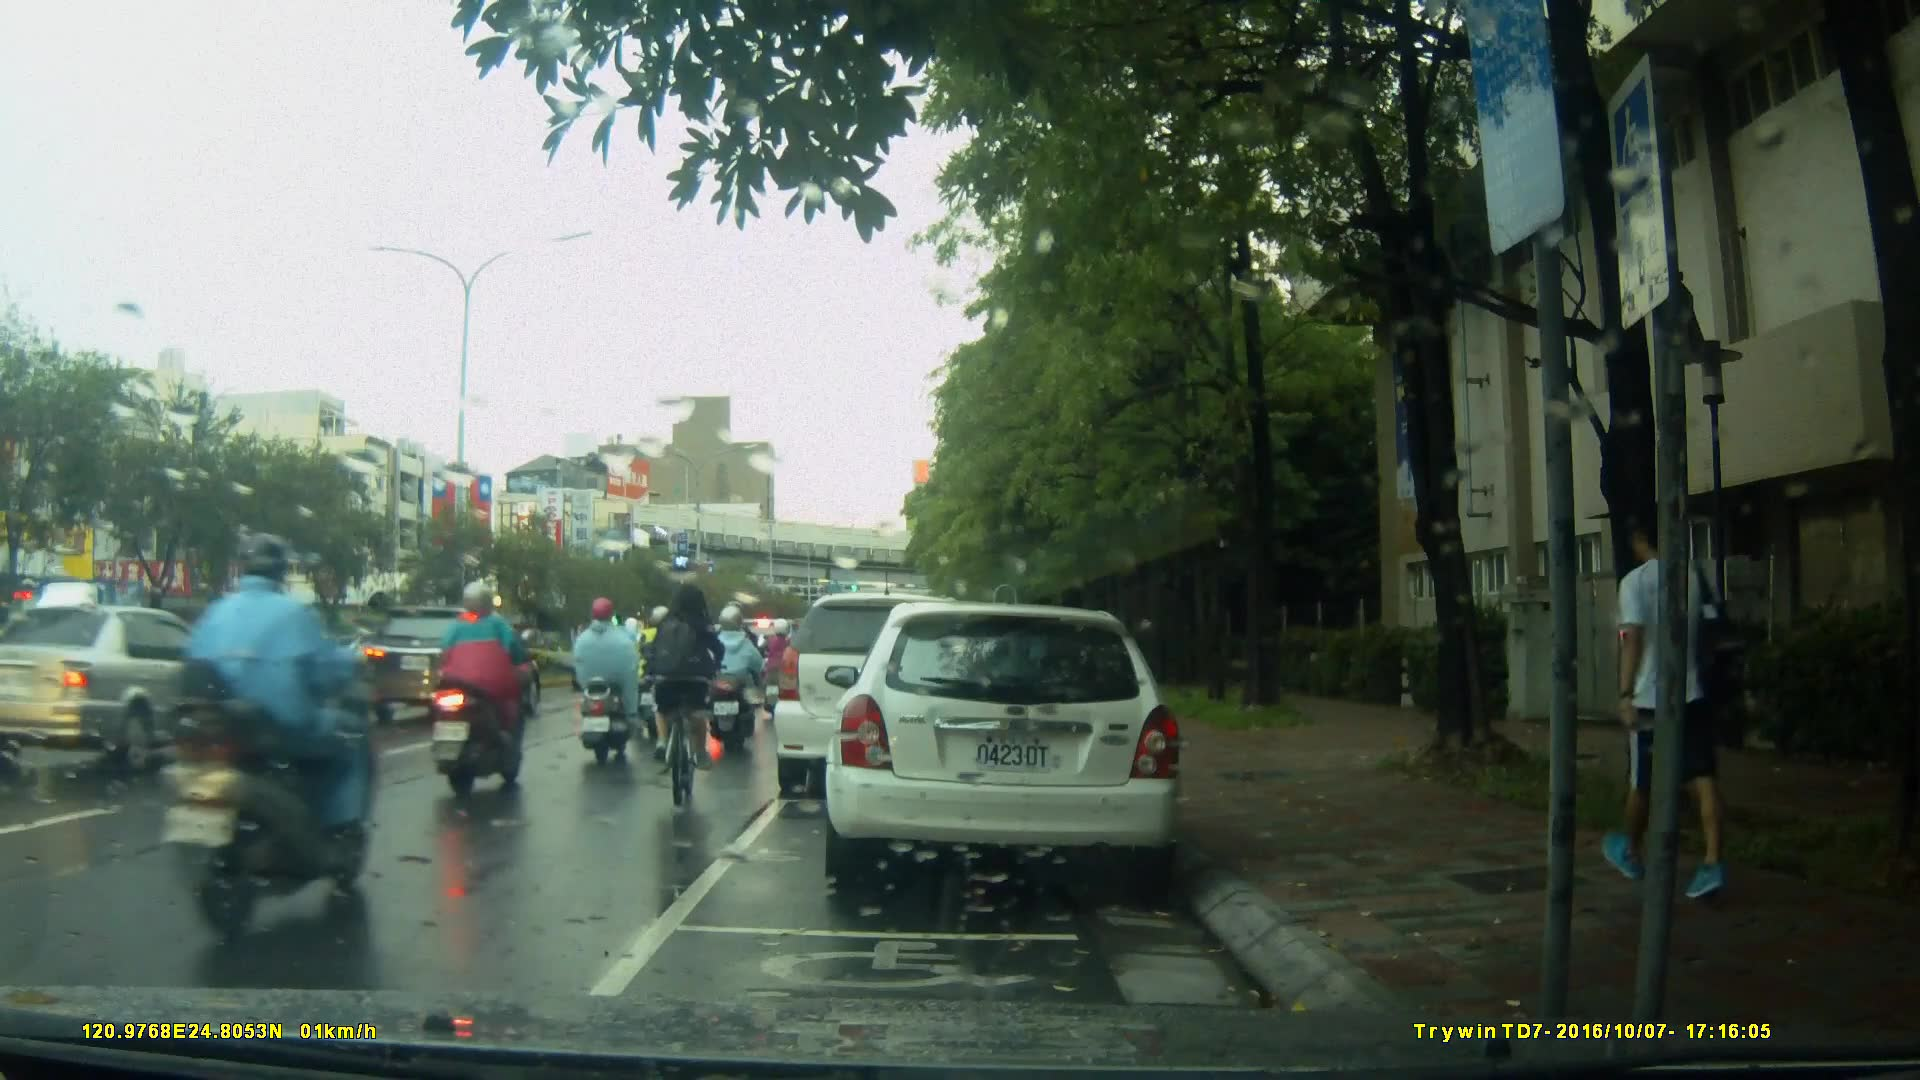pedestrian: (1609, 484, 1732, 930)
rider: (157, 528, 381, 938), (426, 581, 531, 801), (655, 580, 728, 806), (576, 597, 651, 763), (701, 603, 759, 736), (714, 600, 764, 736), (634, 603, 680, 728), (764, 621, 797, 720)
vehicle: (822, 604, 1188, 882), (774, 595, 995, 802), (2, 600, 263, 766), (352, 603, 543, 722)
